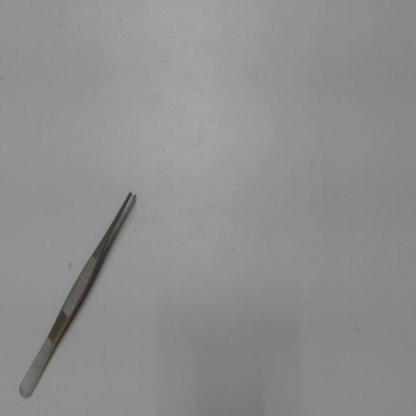Gillies Toothed Dissector: (11, 187, 144, 409)
